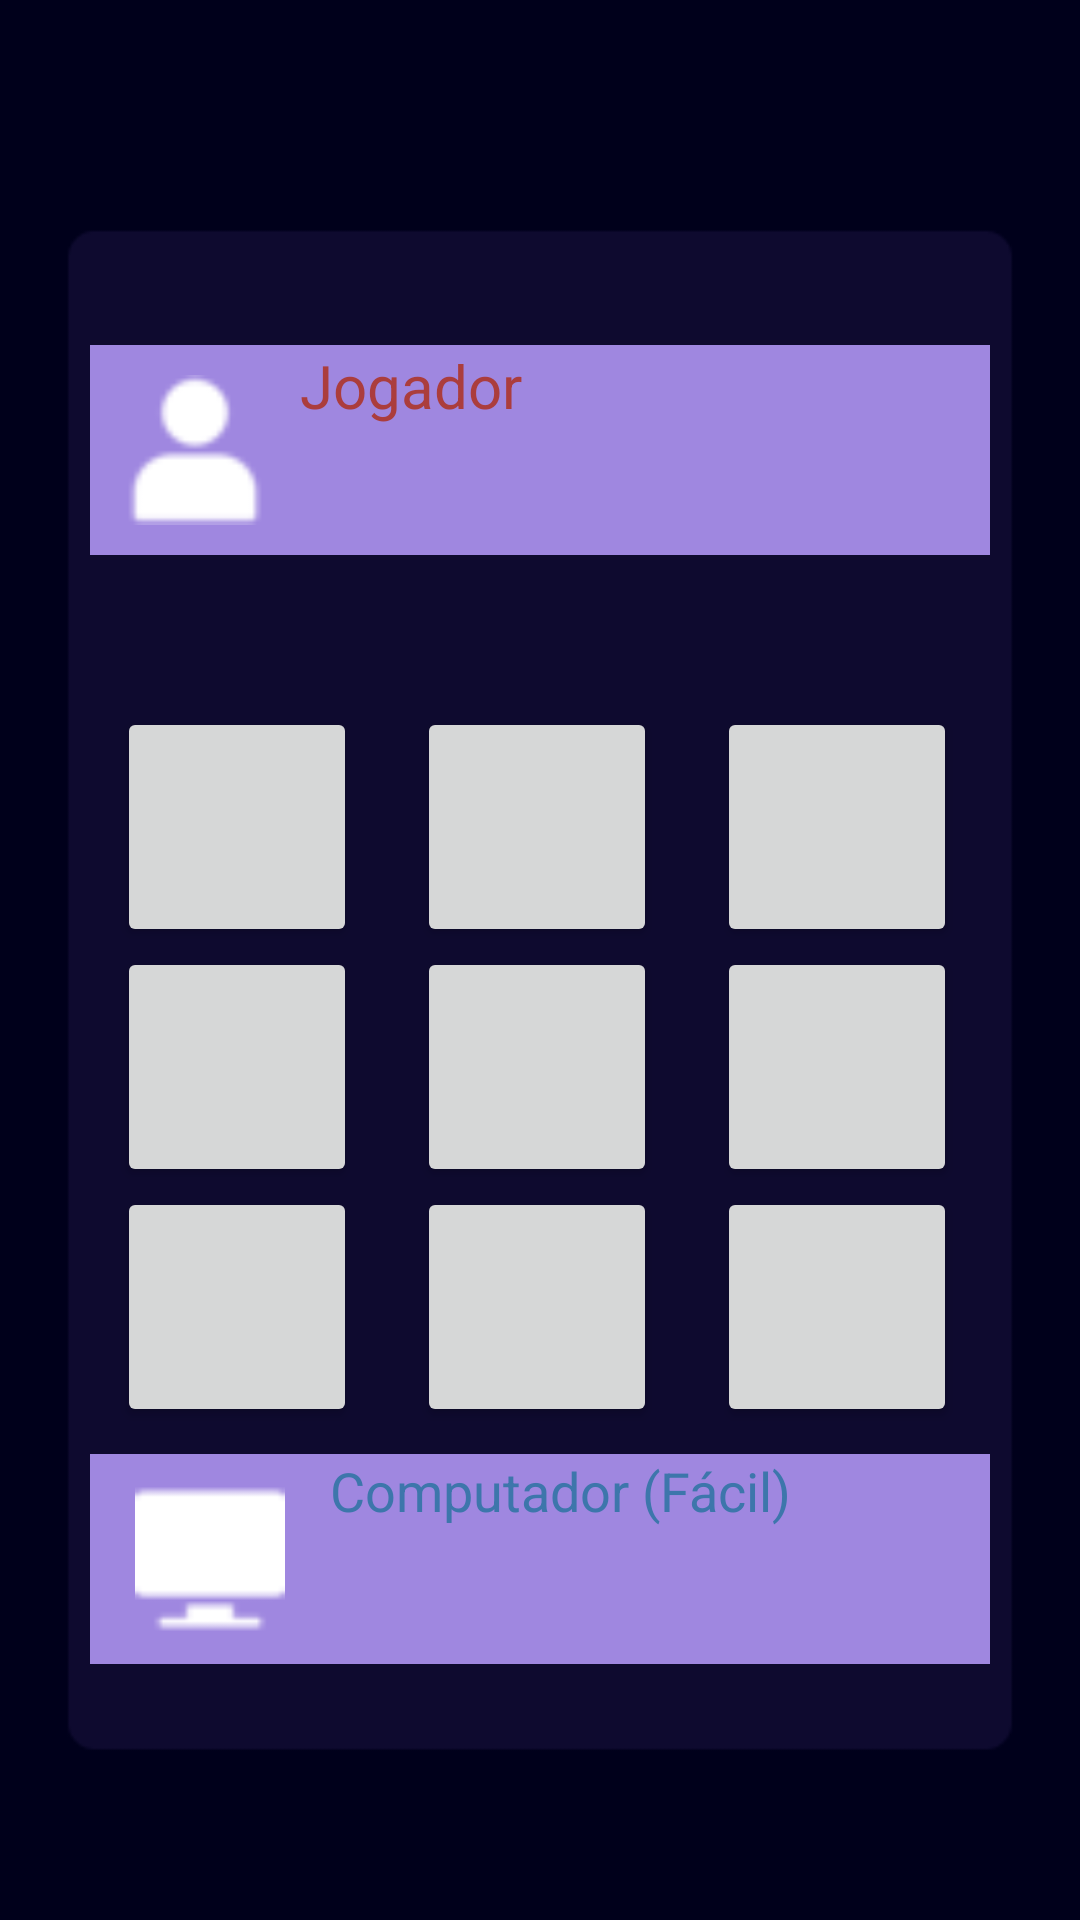

Where to tap for icons on this 1080×1920 app screen, as (x=x, y=y):
user: (x=195, y=450)
